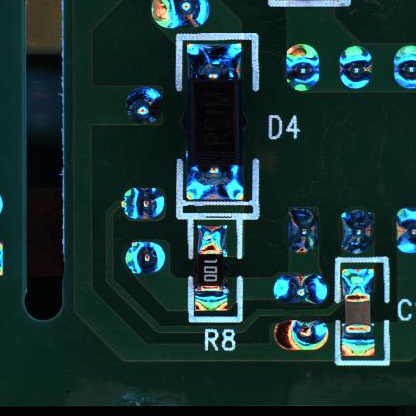spot: (283, 42, 321, 94), (272, 271, 328, 306), (335, 45, 374, 91), (273, 319, 332, 349), (150, 1, 210, 30), (120, 186, 168, 222), (338, 208, 375, 254), (287, 206, 320, 257), (125, 85, 167, 125), (123, 241, 167, 275), (390, 41, 416, 91)
